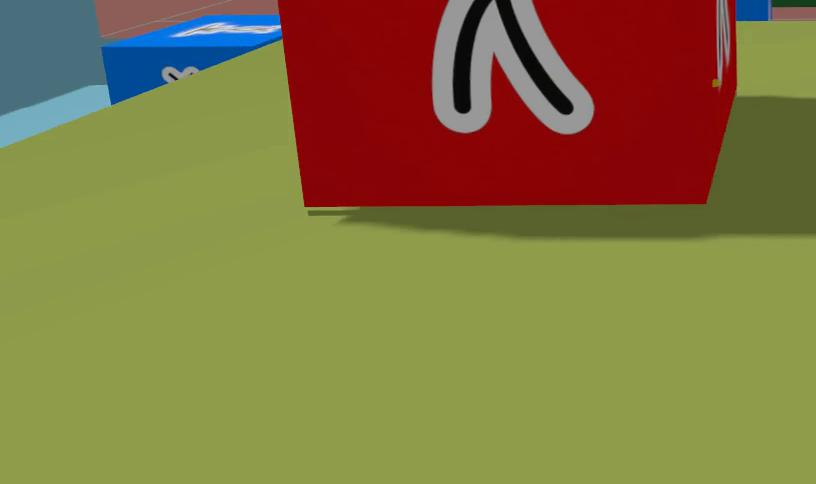KFS_FAKE: (279, 0, 739, 207), (432, 0, 593, 134), (716, 0, 729, 84)
KFS_REAL: (102, 13, 284, 108), (173, 22, 279, 35), (732, 0, 772, 21), (161, 68, 199, 82)
